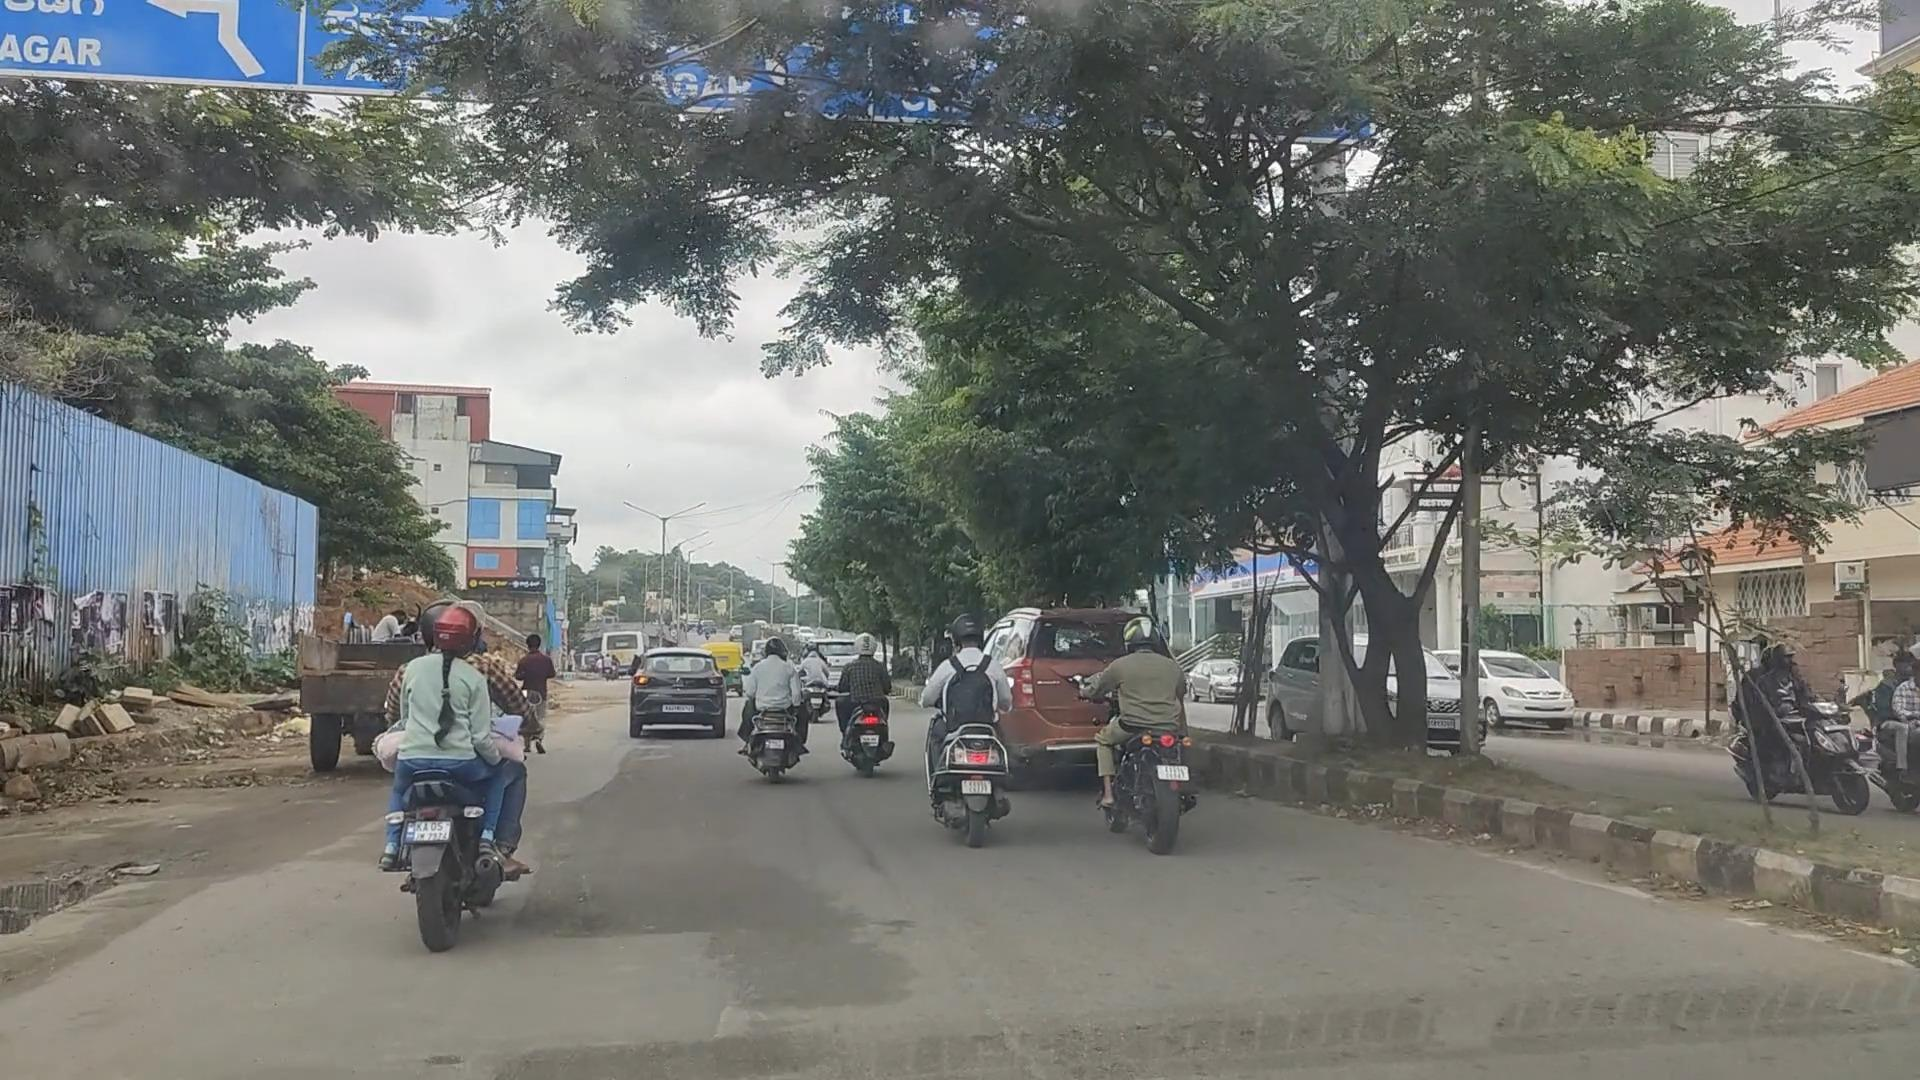LMV: (393, 607, 526, 939), (1084, 613, 1192, 845), (936, 646, 1007, 829), (624, 650, 715, 742), (754, 633, 814, 773), (851, 637, 886, 761)
RoadDamages: (626, 880, 803, 1038), (0, 840, 153, 977)
